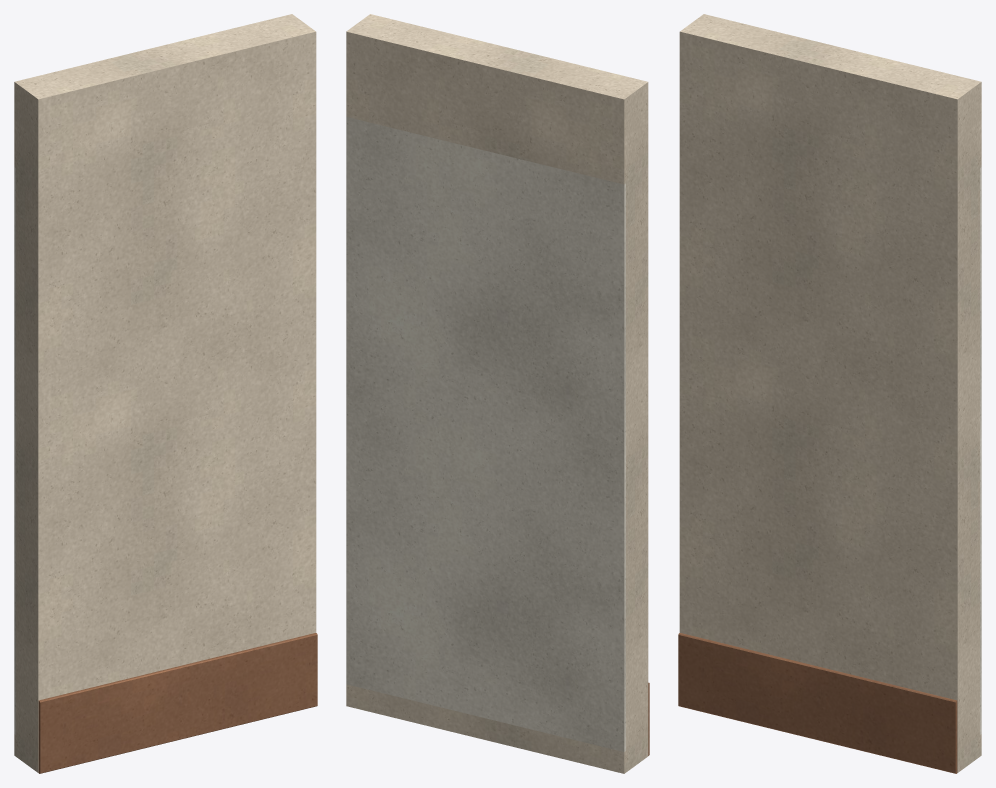
File: m_wall_plain.glb
3 renders of one model, left to right at view 1: azimuth 30°, elevation 25°; view 2: azimuth 150°, elevation 25°; view 3: azimuth 330°, elevation 25°, orthographic.
Parts seen in each view (by area): view 1: m_wall_plain_render, m_wall_plain_plinth, m_wall_plain_plaster; view 2: m_wall_plain_plaster, m_wall_plain_render; view 3: m_wall_plain_render, m_wall_plain_plinth, m_wall_plain_plaster.
Boxes of the visible parts, <box> form: m_wall_plain_render: <box>14,14,316,772</box>; m_wall_plain_plinth: <box>38,633,317,773</box>; m_wall_plain_plaster: <box>14,167,15,734</box>; m_wall_plain_plaster: <box>346,117,625,751</box>; m_wall_plain_render: <box>346,14,648,773</box>; m_wall_plain_render: <box>679,14,981,772</box>; m_wall_plain_plinth: <box>678,633,957,773</box>; m_wall_plain_plaster: <box>980,167,981,734</box>.
Size of the model in its own units: 2 by 4.64 by 0.32.
Materials: 3 (3 with a texture image).
